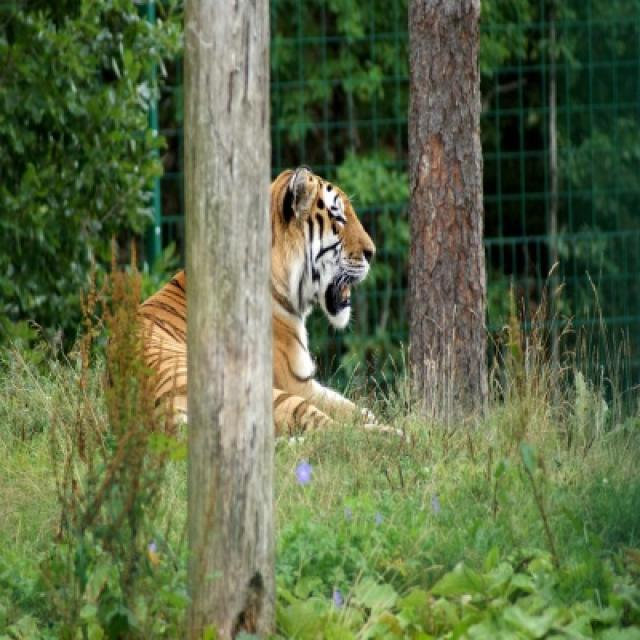Tiger: (272, 166, 381, 434)
